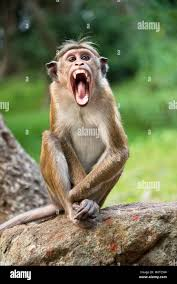monkey: (50, 19, 135, 250)
